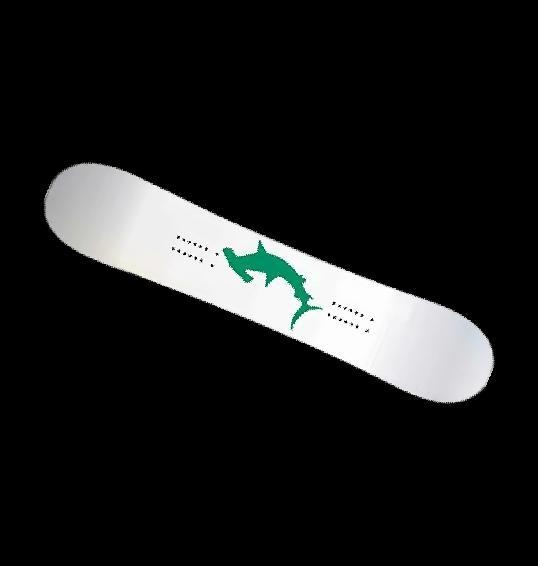Snowboard: (43, 161, 495, 404)
